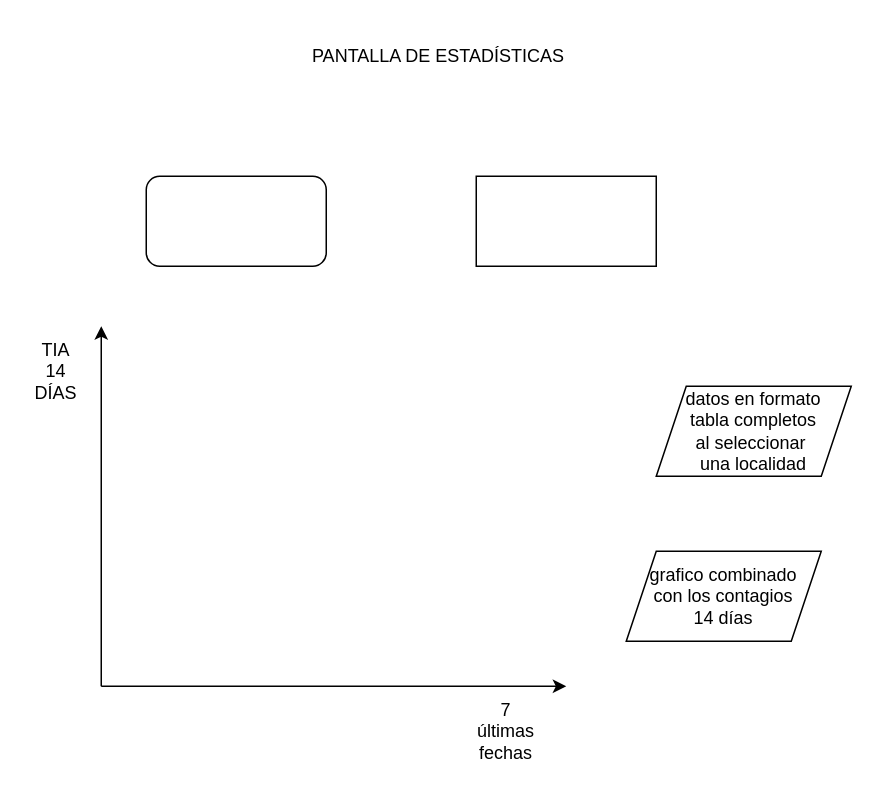
The diagram is 878 pixels wide and 789 high, and some of its shapes have lost their labels. Each missing label, with the centre of its shape:
ion-searchbar LOCALIDADES: point (235, 220)
ion-select-option Fechas Informe: point (565, 220)
